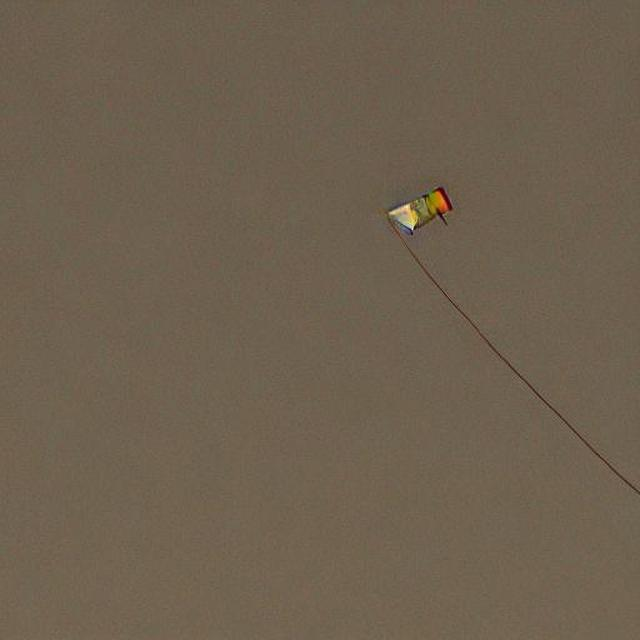floating object: (381, 182, 459, 236), (378, 204, 418, 240)
